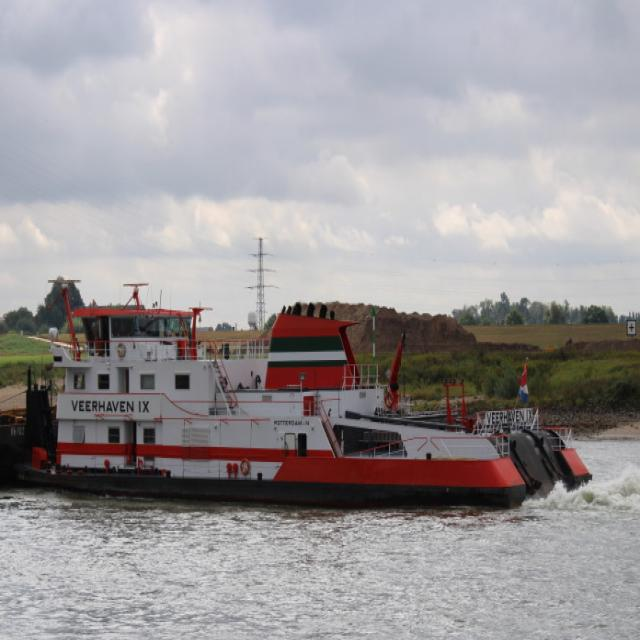tugboat: (21, 279, 599, 523)
